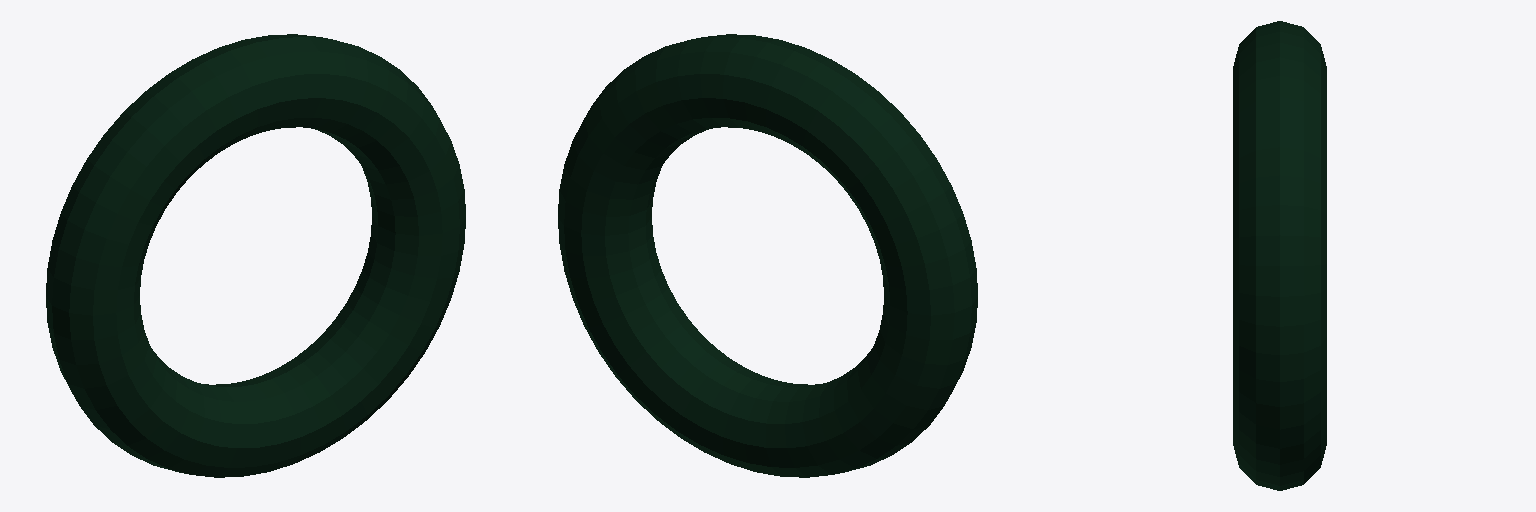
Rendered from donut.obj.
3 renders of one model, left to right at view 1: azimuth 30°, elevation 25°; view 2: azimuth 150°, elevation 25°; view 3: azimuth 270°, elevation 25°, orthographic.
Parts seen in each view (by area): view 1: Torus; view 2: Torus; view 3: Torus.
Boxes of the visible parts, box(x1,y1,x2,y2) form: Torus: box(46, 34, 465, 477); Torus: box(558, 34, 977, 477); Torus: box(1233, 21, 1326, 490).
Bounding box in the file's own units: 5 × 5 × 1.